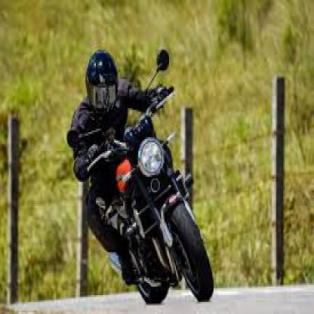Motocicleta: (82, 123, 221, 303)
